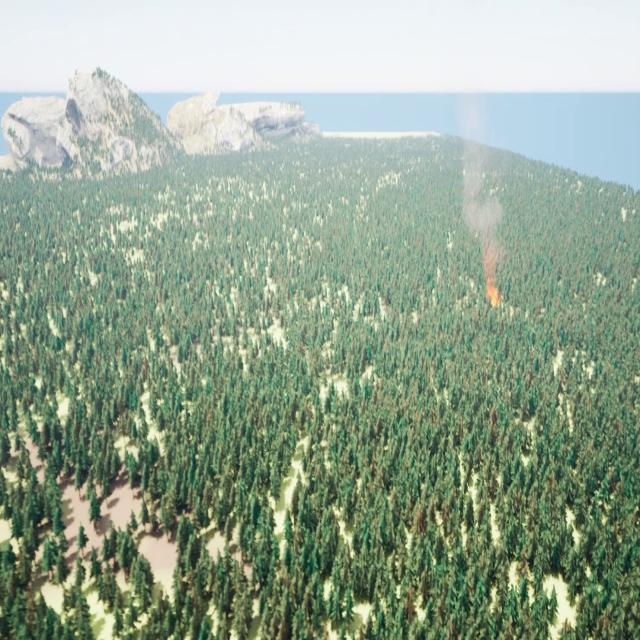fire: (483, 278, 499, 305)
smoke: (458, 104, 504, 282)
